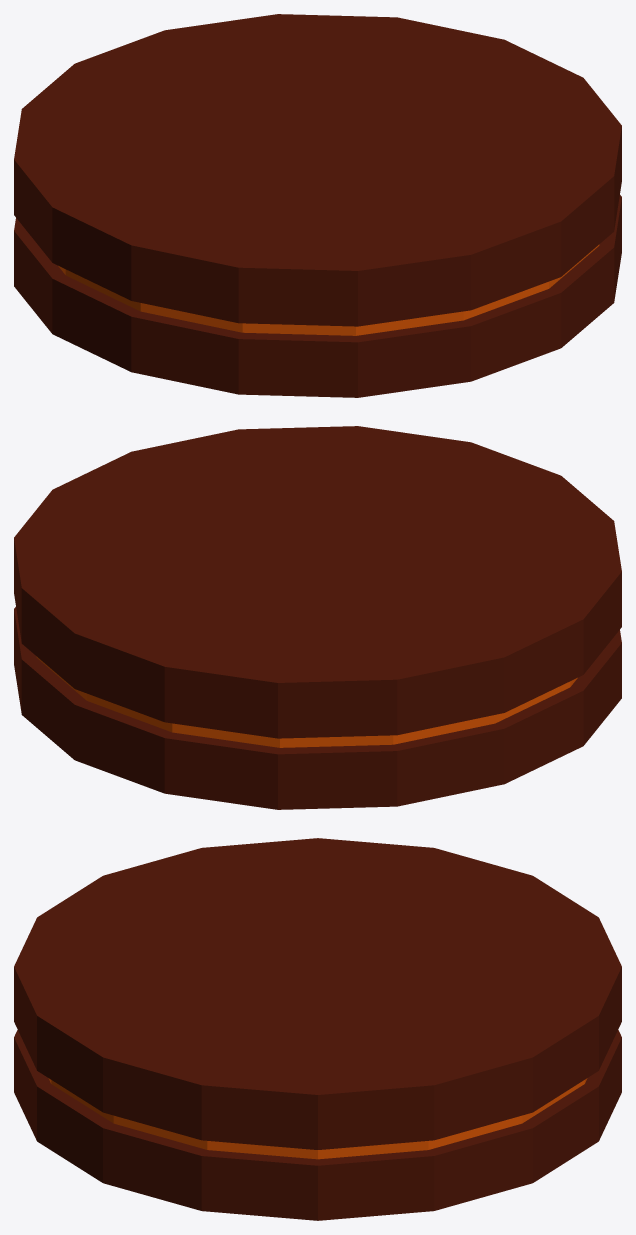
The model's file is alfajor.fbx.
3 views of the same model, one above another, from view 1: azimuth 30°, elevation 25°; view 2: azimuth 150°, elevation 25°; view 3: azimuth 270°, elevation 25° (orthographic).
Visible parts, largest first — view 1: Cylinder.001; view 2: Cylinder.001; view 3: Cylinder.001.
Boxes of the visible parts, bbox=[...] form: Cylinder.001: bbox=[14, 14, 621, 397]; Cylinder.001: bbox=[14, 426, 621, 809]; Cylinder.001: bbox=[14, 838, 621, 1220].
Bounding box in the file's own units: 200 × 45.67 × 200.
